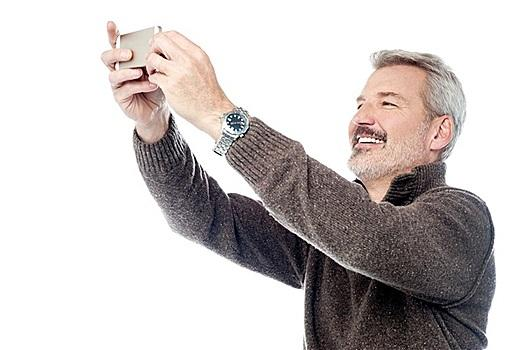taking photos: (96, 16, 225, 128)
